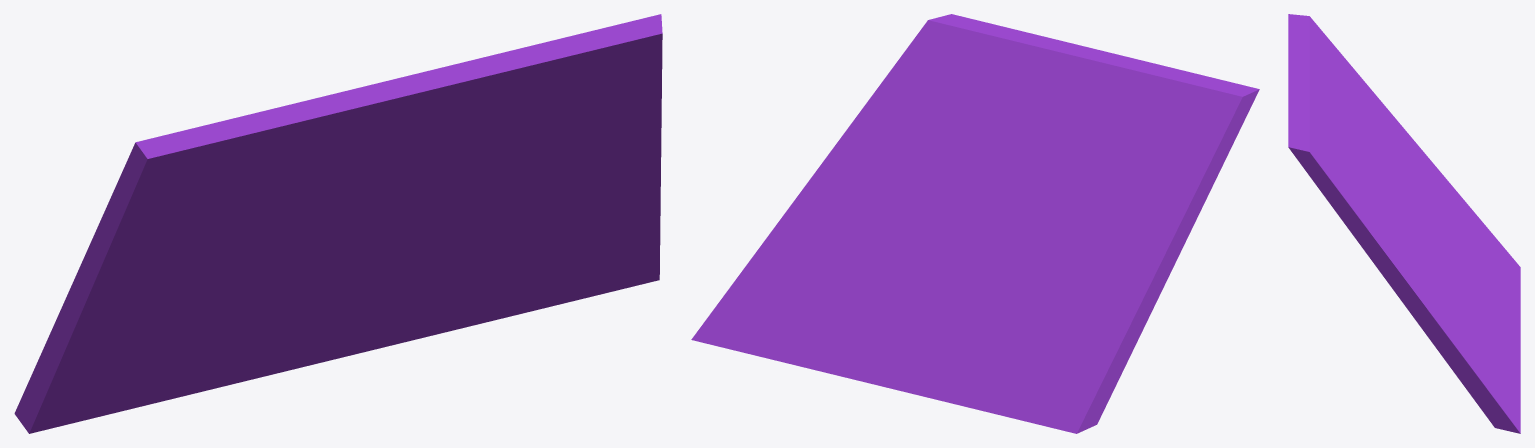
The model's file is Window_109.fbx.
3 renders of one model, left to right at view 1: azimuth 30°, elevation 25°; view 2: azimuth 150°, elevation 25°; view 3: azimuth 270°, elevation 25°, orthographic. The views are drawn at different scales.
Parts seen in each view (by area): view 1: Window_109; view 2: Window_109; view 3: Window_109.
Part boxes in pixels (left/top/right/bottom): Window_109: left=14, top=14, right=662, bottom=433; Window_109: left=691, top=14, right=1259, bottom=433; Window_109: left=1288, top=14, right=1520, bottom=433.
Bounding box in the file's own units: 1453 × 829 × 756.
